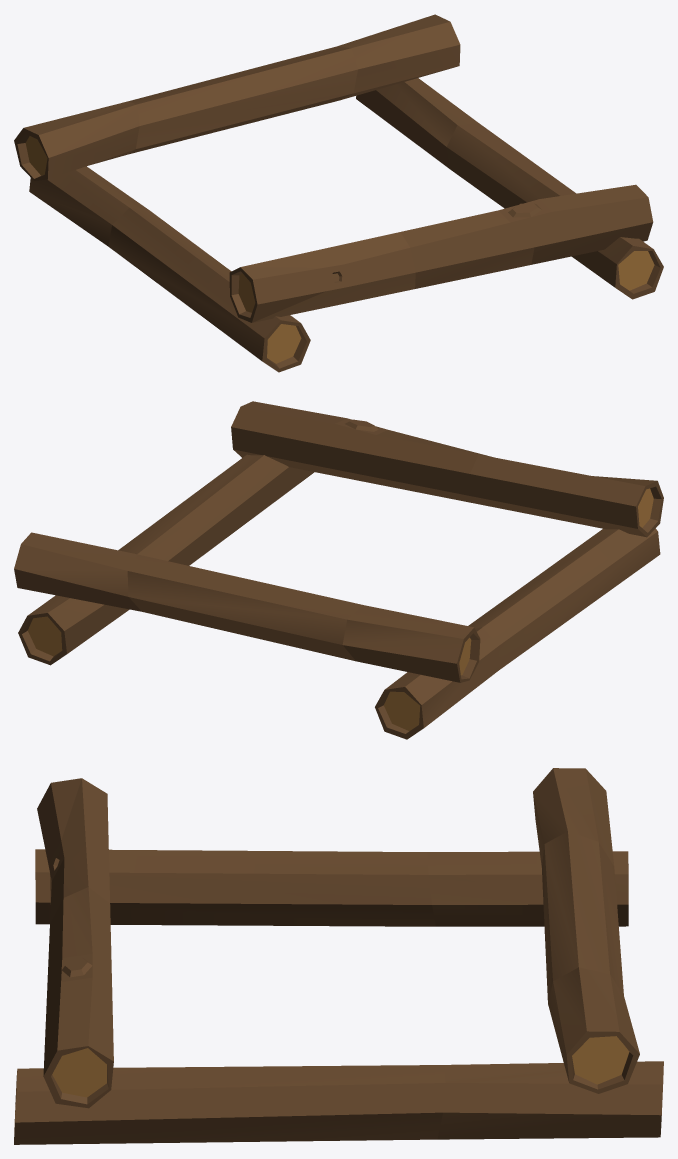
Rendered from campfire-bench.fbx.
3 renders of one model, top to bottom at view 1: azimuth 30°, elevation 25°; view 2: azimuth 150°, elevation 25°; view 3: azimuth 270°, elevation 25°, orthographic. The views are drawn at different scales.
Visible parts, largest first — view 1: campfire-bench; view 2: campfire-bench; view 3: campfire-bench.
Part boxes in pixels (x1,y1,x2,y2): campfire-bench: (14, 14, 663, 372); campfire-bench: (14, 401, 663, 739); campfire-bench: (14, 768, 663, 1144).
Bounding box in the file's own units: 2.22 × 0.5082 × 2.29.
